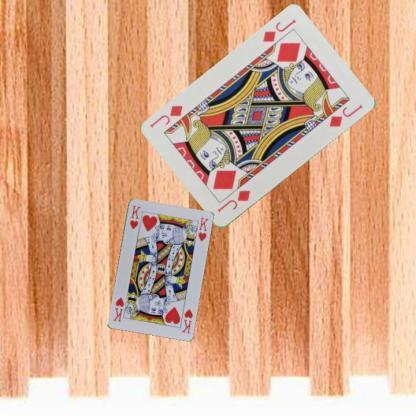Jd: (259, 17, 297, 44), (214, 188, 251, 214)
Kh: (179, 306, 194, 335), (127, 202, 142, 230)
